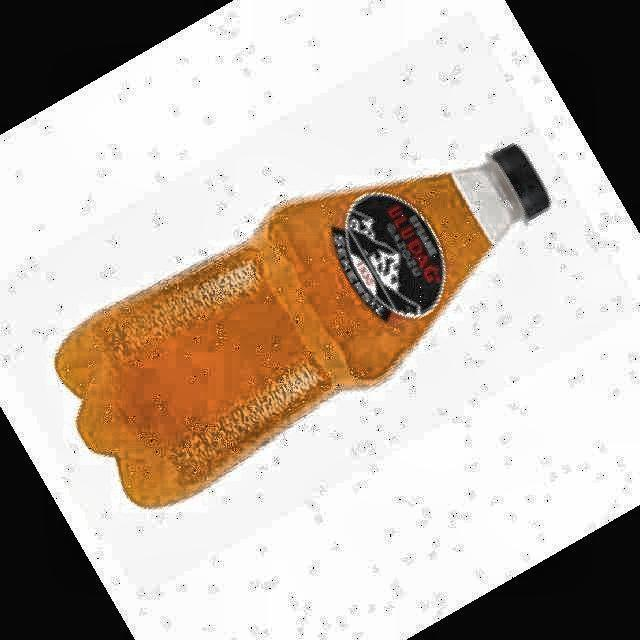plastic: (55, 145, 546, 506)
